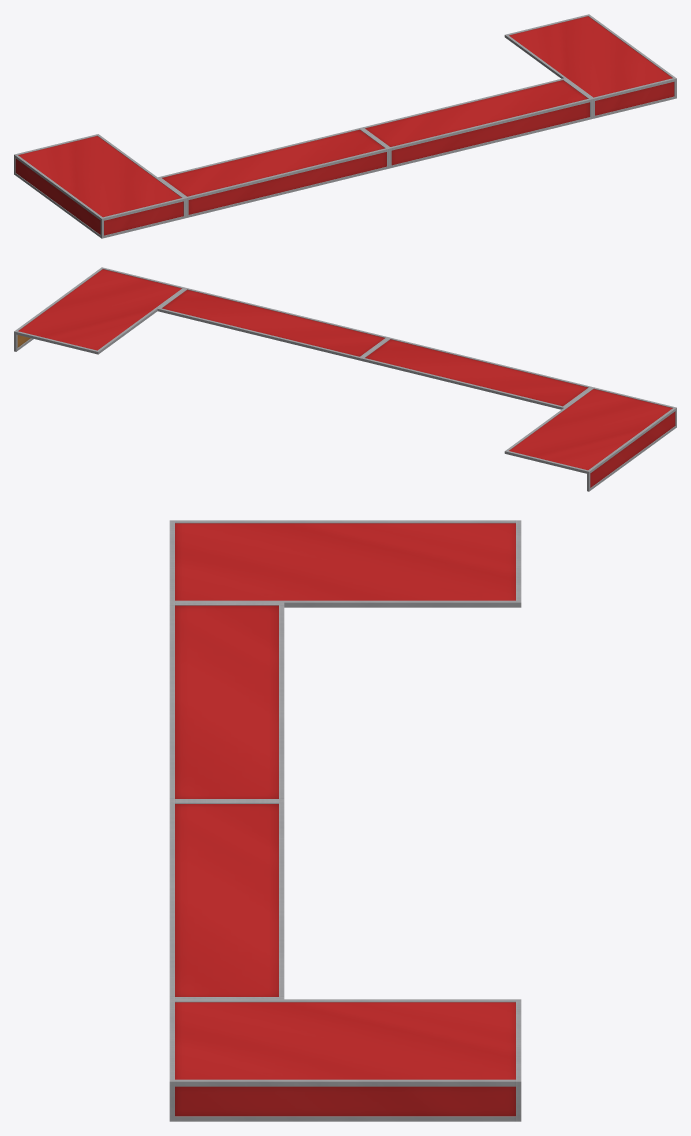
File: jsf_2P_s04_c06_t03_DX.fbx
3 views of the same model, one above another, from view 1: azimuth 30°, elevation 25°; view 2: azimuth 150°, elevation 25°; view 3: azimuth 270°, elevation 25° (orthographic). The views are drawn at different scales.
Visible parts, largest first — view 1: jsf_2P_s04_c06_t03_DX; view 2: jsf_2P_s04_c06_t03_DX; view 3: jsf_2P_s04_c06_t03_DX.
Part boxes in pixels (x1,y1,x2,y2): jsf_2P_s04_c06_t03_DX: (14,14,676,238); jsf_2P_s04_c06_t03_DX: (14,267,676,491); jsf_2P_s04_c06_t03_DX: (169,520,521,1121).
Bounding box in the file's own units: 378 × 12.51 × 100.
